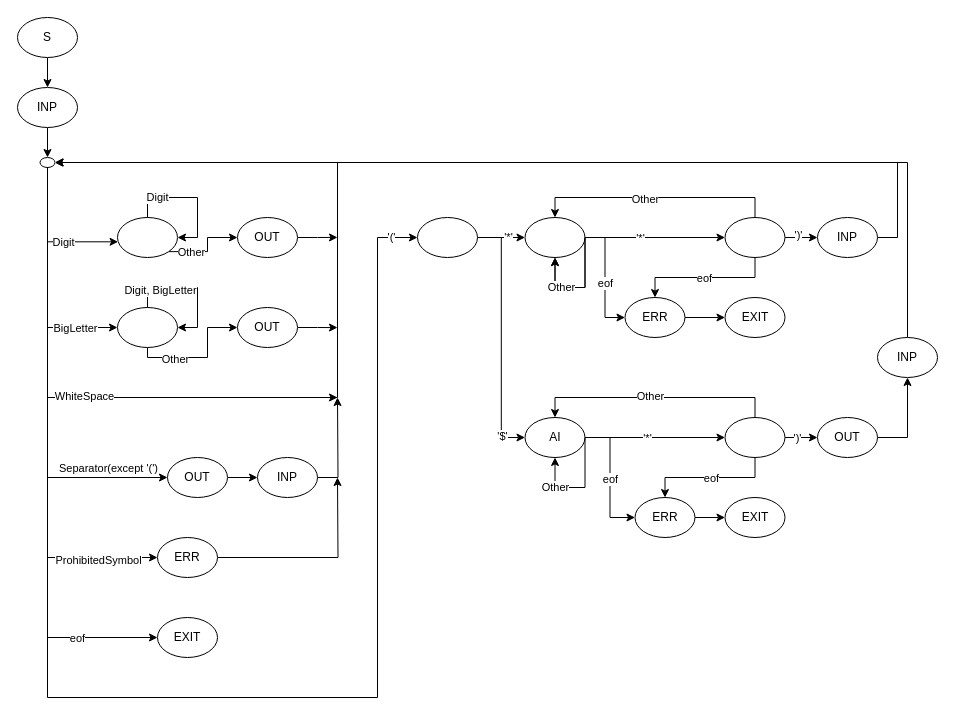
Image size: 955x723. Some labels were removed from this diagram. The centre of each missing label's shape, as x and y in pixels:
BCA: the point at 447,237
CNS: the point at 147,237
COM: the point at 554,237
EAI: the point at 754,437
ECOM: the point at 754,237
IDN: the point at 147,327
